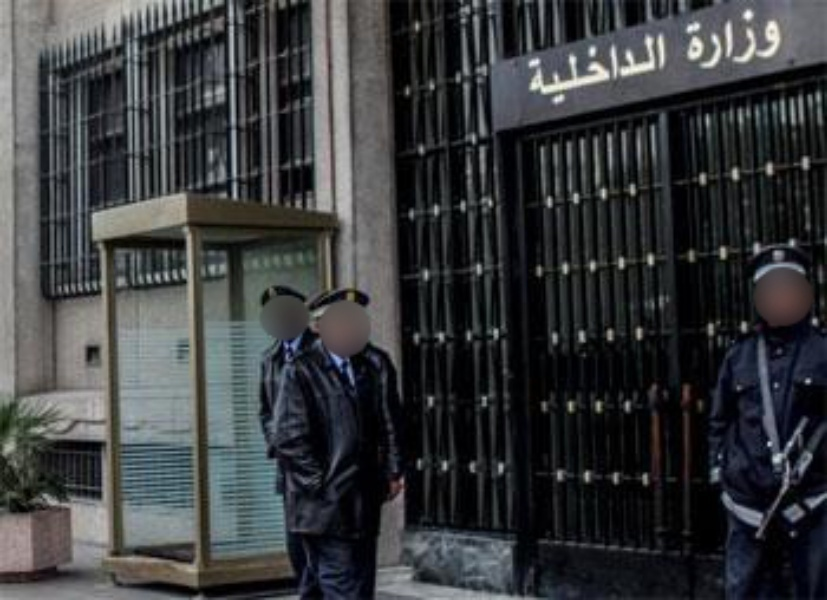text: (529, 29, 544, 119), (545, 29, 560, 119), (561, 29, 576, 119), (577, 29, 592, 119), (593, 29, 608, 119), (609, 29, 624, 119), (625, 29, 640, 119), (641, 29, 656, 119), (657, 29, 672, 119), (689, 5, 704, 78), (705, 5, 720, 78), (721, 5, 736, 78), (737, 5, 752, 78), (753, 5, 768, 78), (769, 5, 784, 78), (785, 5, 799, 78), (681, 5, 688, 78), (523, 29, 528, 119)
